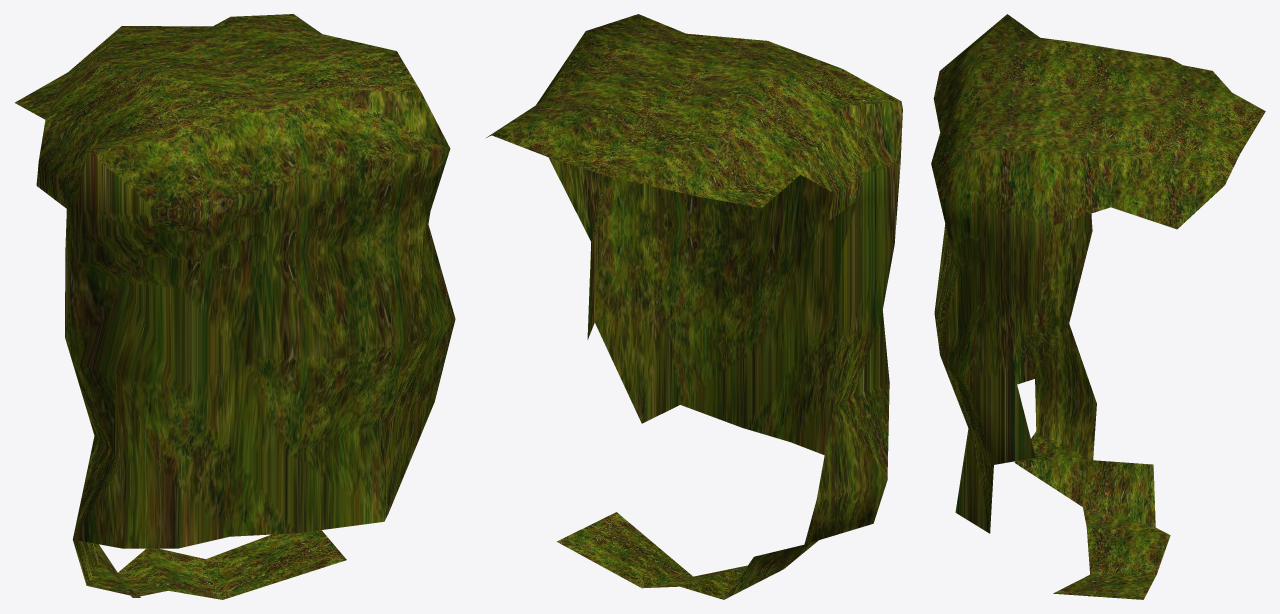
Rendered from TROLLHOLE02_RM_PSURF100.fbx.
The picture shows the model from 3 angles, left to right: view 1: azimuth 30°, elevation 25°; view 2: azimuth 150°, elevation 25°; view 3: azimuth 270°, elevation 25°; orthographic projection. The views are drawn at different scales.
Parts seen in each view (by area): view 1: TROLLHOLE02_RM_PSURF100; view 2: TROLLHOLE02_RM_PSURF100; view 3: TROLLHOLE02_RM_PSURF100.
Part boxes in pixels (x1,y1,x2,y2): TROLLHOLE02_RM_PSURF100: (15, 14, 455, 599); TROLLHOLE02_RM_PSURF100: (485, 14, 902, 599); TROLLHOLE02_RM_PSURF100: (931, 14, 1265, 599).
Bounding box in the file's own units: 80647 × 113998 × 68877.
Materials: 1 (1 with a texture image).
